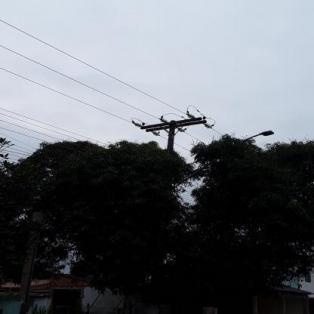Poste: (162, 120, 180, 152)
